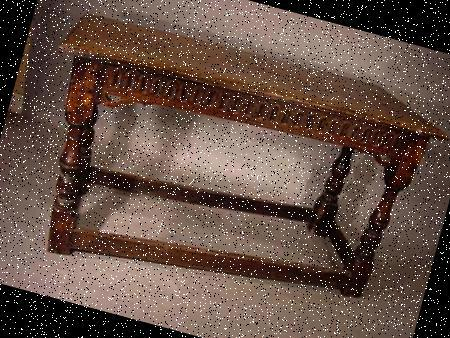Mesa: (6, 1, 449, 337)
